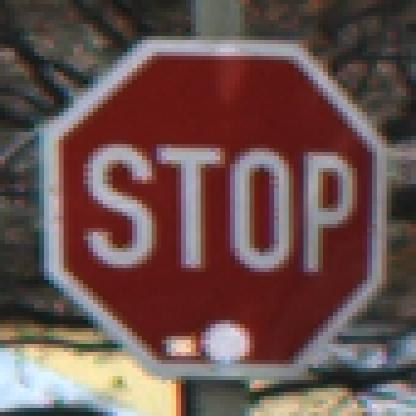stop: (44, 29, 397, 385)
